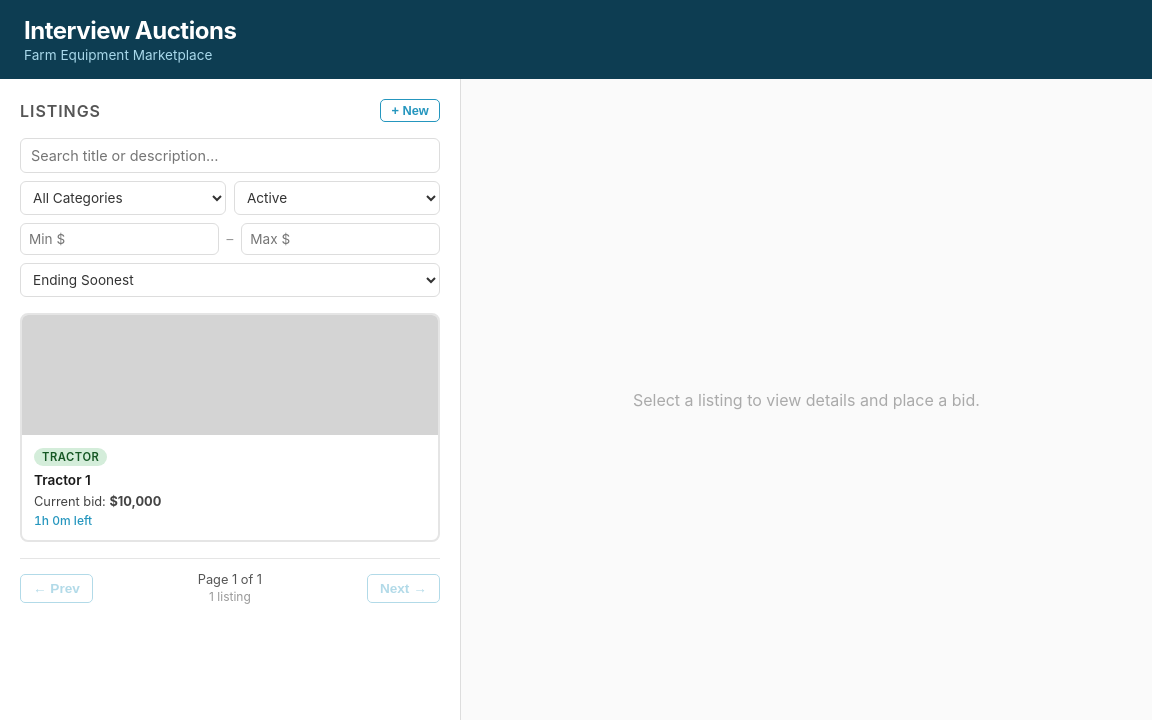
App › filters › warns rather than sending an impossible price range
The width and height of the screenshot is (1152, 720).
Check: the heading "Tractor 1" is shown, box [34,472,91,488]
Type "100" into the number field named "minimum price" at (119, 239), box [20,223,218,255]
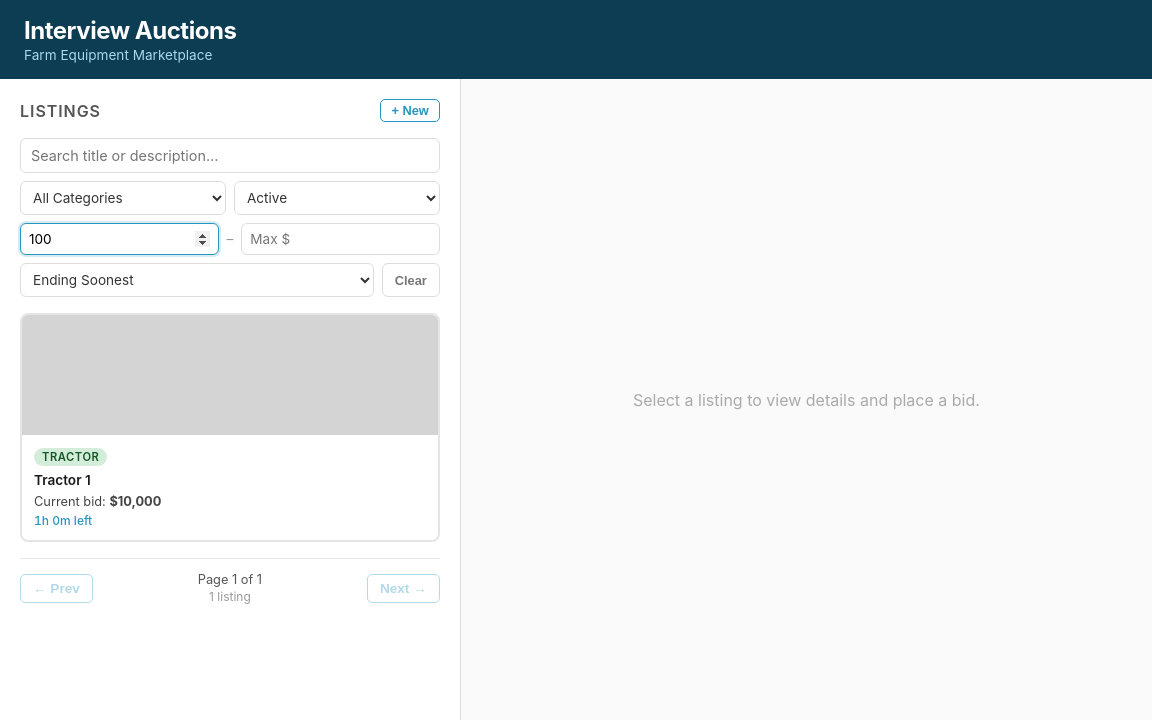
Type "5" into the number field named "maximum price" at (341, 239), box [241,223,440,255]
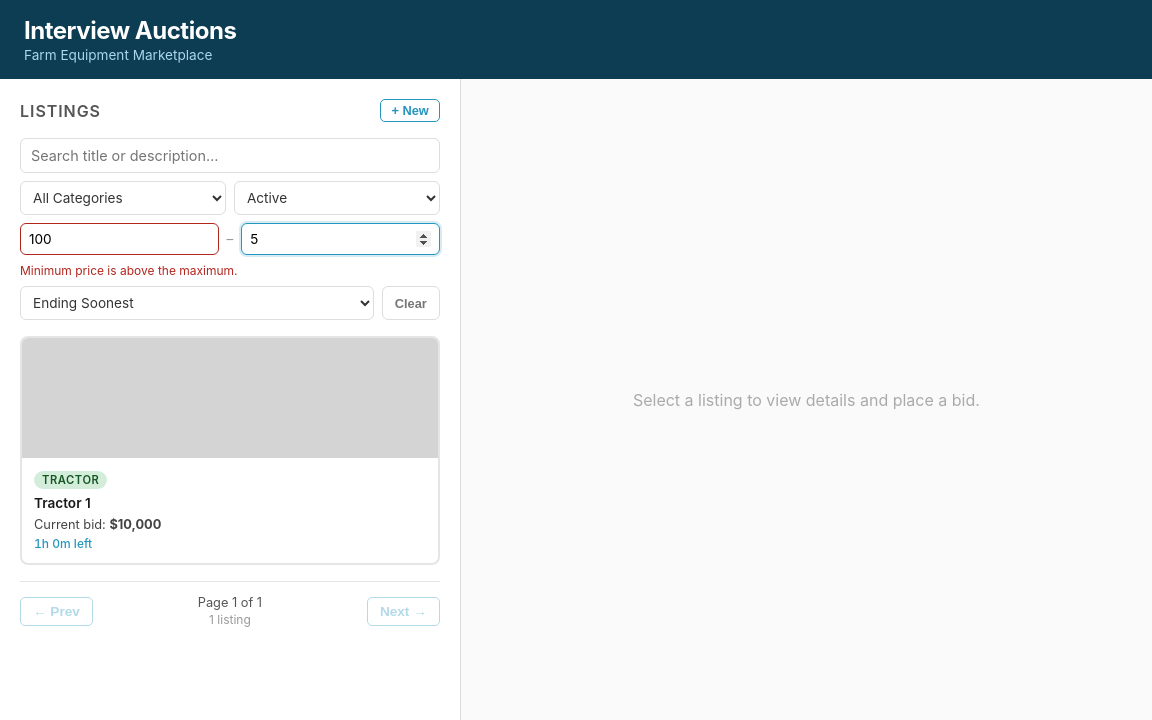
Check: the text "Minimum price is above the maximum." is shown, box [20,263,238,278]
